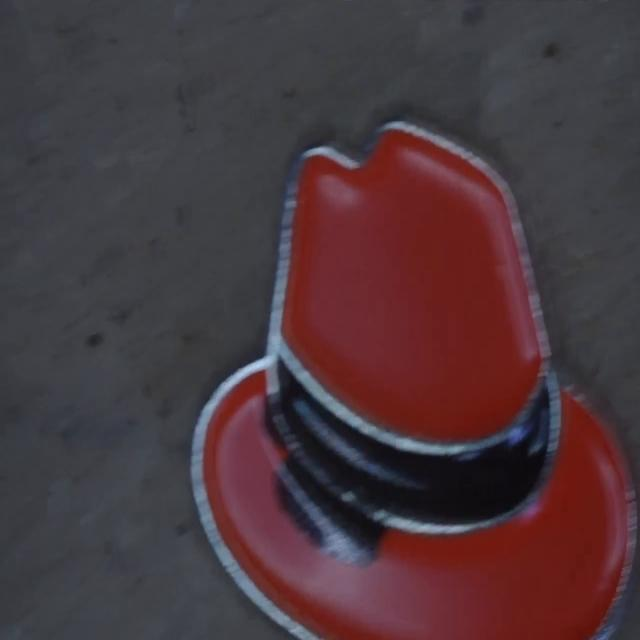Hatband: (269, 336, 560, 533)
Paint_Leak: (279, 460, 380, 563)
RedHatPin: (191, 122, 636, 637)
